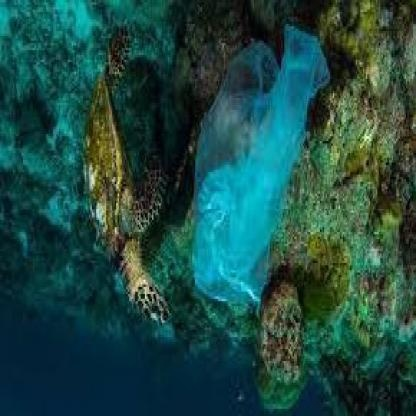pbag: (188, 19, 331, 309)
